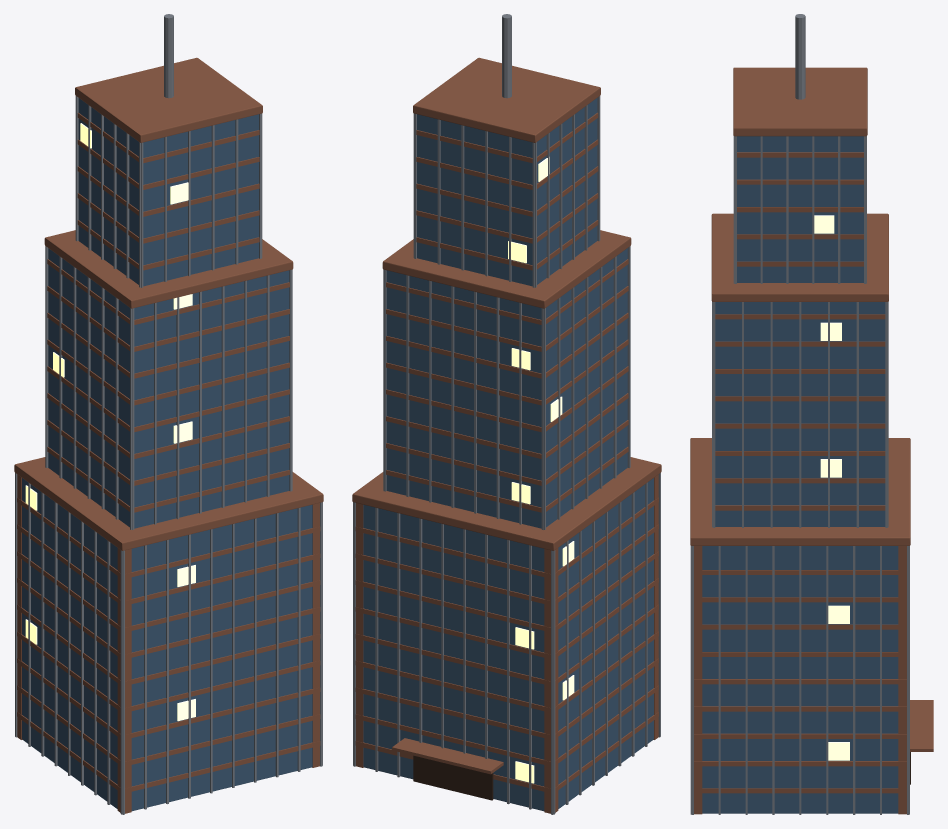
Rendered from tower.glb.
3 views of the same model, side by side, from view 1: azimuth 30°, elevation 25°; view 2: azimuth 150°, elevation 25°; view 3: azimuth 270°, elevation 25° (orthographic).
Visible parts, largest first — view 1: part-glass, part-paint, part-metal, part-glass-lit; view 2: part-glass, part-paint, part-metal, part-glass-lit, part-door; view 3: part-glass, part-paint, part-metal, part-glass-lit.
Boxes of the visible parts, box(x1,y1,x2,y2) form: part-glass: box(22, 98, 312, 811); part-paint: box(14, 57, 323, 813); part-metal: box(15, 14, 322, 814); part-glass-lit: box(25, 123, 195, 721); part-glass: box(363, 98, 653, 811); part-paint: box(352, 57, 661, 813); part-metal: box(353, 14, 660, 814); part-glass-lit: box(508, 157, 574, 783); part-door: box(413, 755, 493, 800); part-glass: box(702, 136, 898, 813); part-paint: box(690, 67, 933, 814); part-metal: box(690, 14, 909, 814); part-glass-lit: box(814, 215, 849, 760).
Size of the model in its own units: 55.21 by 192 by 56.61.
